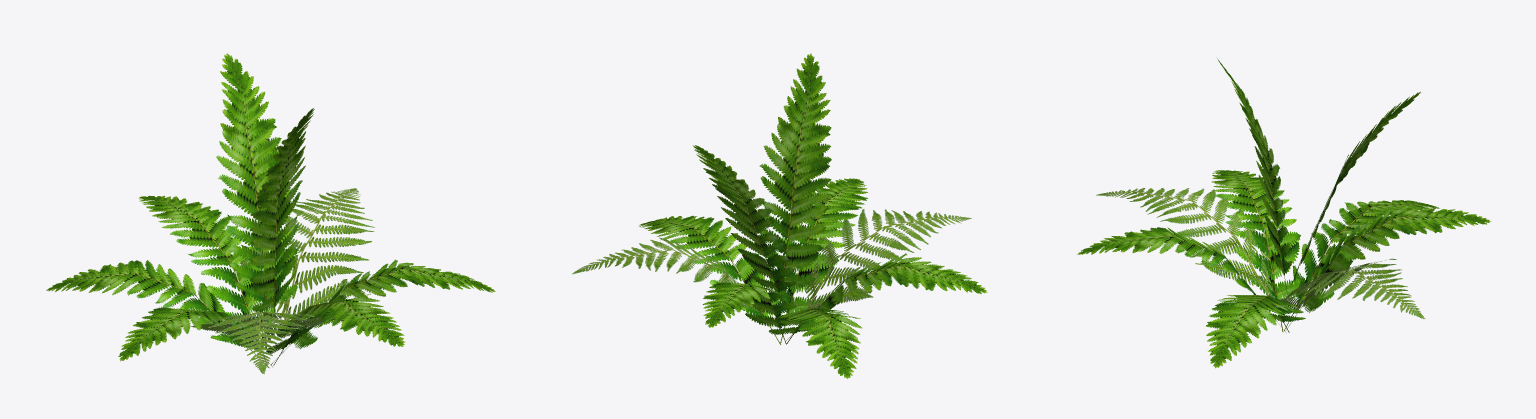
Rendered from prop_fern3.fbx.
The picture shows the model from 3 angles, left to right: view 1: azimuth 30°, elevation 25°; view 2: azimuth 150°, elevation 25°; view 3: azimuth 270°, elevation 25°; orthographic projection. The views are drawn at different scales.
Parts seen in each view (by area): view 1: pPlane21, pPlane20, pPlane17, pPlane24, pPlane22, pPlane18, pPlane19, pPlane23, pPlane13; view 2: pPlane20, pPlane23, pPlane21, pPlane18, pPlane19, pPlane13, pPlane22, pPlane17, pPlane24; view 3: pPlane23, pPlane13, pPlane17, pPlane18, pPlane22, pPlane24, pPlane20, pPlane19, pPlane21.
Boxes of the visible parts, x1,y1,x2,y2 form: pPlane21: (216, 53, 298, 327); pPlane20: (250, 108, 314, 323); pPlane17: (138, 195, 275, 367); pPlane24: (239, 188, 374, 322); pPlane22: (46, 260, 269, 368); pPlane18: (271, 259, 495, 364); pPlane19: (266, 293, 404, 365); pPlane23: (191, 312, 324, 374); pPlane13: (118, 306, 272, 366); pPlane20: (754, 53, 831, 304); pPlane23: (805, 209, 971, 308); pPlane21: (693, 145, 796, 301); pPlane18: (639, 215, 780, 344); pPlane19: (769, 178, 867, 343); pPlane13: (786, 253, 987, 340); pPlane22: (769, 307, 862, 378); pPlane17: (702, 282, 798, 344); pPlane24: (572, 237, 761, 315); pPlane23: (1096, 188, 1273, 296); pPlane13: (1211, 170, 1304, 331); pPlane17: (1286, 206, 1490, 330); pPlane18: (1206, 295, 1305, 368); pPlane22: (1284, 200, 1439, 330); pPlane24: (1264, 258, 1425, 318); pPlane20: (1217, 58, 1291, 294); pPlane19: (1077, 227, 1285, 331); pPlane21: (1292, 91, 1420, 282).
Bounding box in the file's own units: 2.33 × 1.63 × 2.24.
